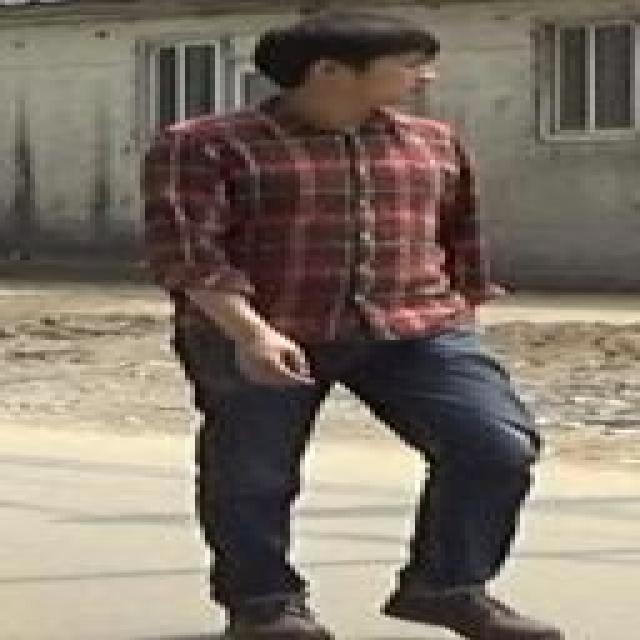adult: (129, 19, 567, 640)
